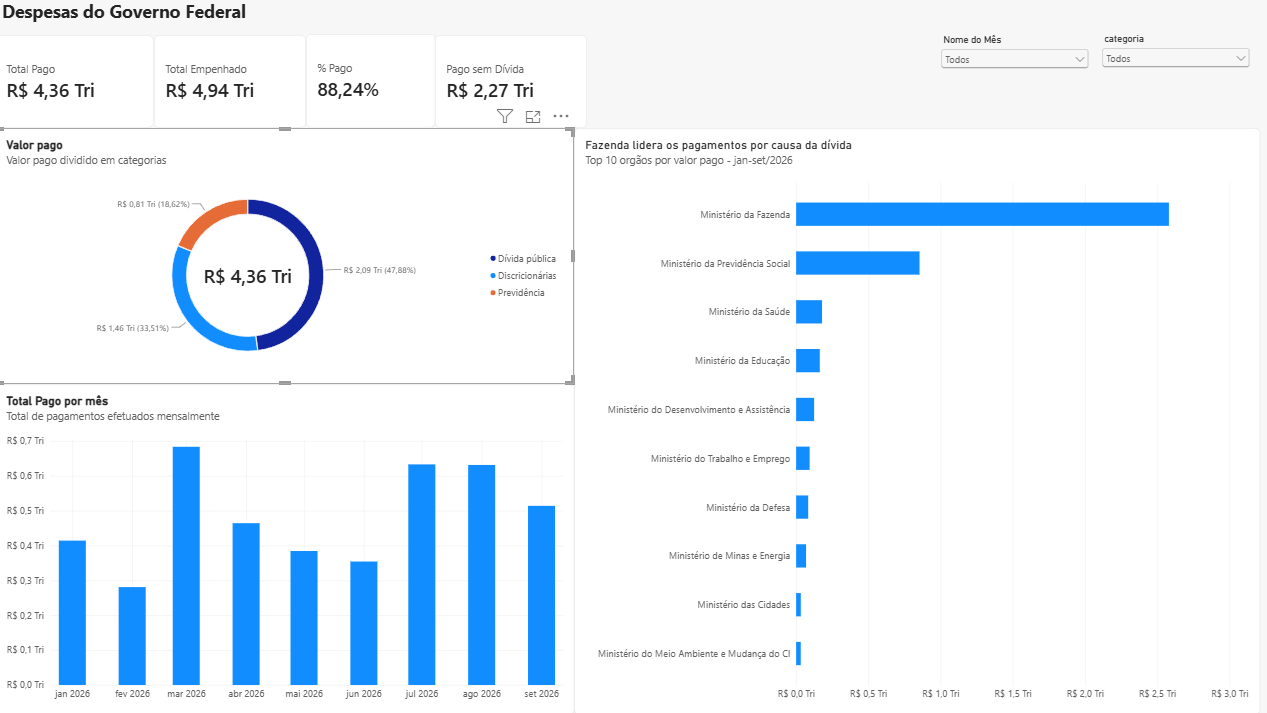

This screenshot's page, from the dashboard's own definition file:
{"tool":"powerbi","page":{"name":"Página 1","canvas":[1920,1080],"ordinal":0},"visuals":[{"type":"slicer","title":"Categoria","fields":{"Values":["dCalendario.Nome do Mês"]},"box":[1422.3,52.8,232.3,70.9],"z":0},{"type":"textbox","box":[10.2,0,458.1,280.1],"z":1000},{"type":"cardVisual","fields":{"Data":["_Medidas.Total Pago"]},"box":[0,54.3,316.7,140.3],"z":2000},{"type":"cardVisual","fields":{"Data":["_Medidas.Total Empenhado"]},"box":[316.7,54.3,313.7,140.3],"z":3000},{"type":"cardVisual","fields":{"Data":["_Medidas.% Pago"]},"box":[630.4,49.8,340.9,141.8],"z":4000},{"type":"cardVisual","fields":{"Data":["_Medidas.Pago sem Dívida"]},"box":[960.8,51.3,419.3,140.3],"z":5000},{"type":"clusteredColumnChart","title":"Total Pago por mês","fields":{"Category":["dCalendario.Data"],"Y":["_Medidas.Total Pago"]},"box":[0,580.7,873.9,499],"z":6000},{"type":"clusteredBarChart","title":"Fazenda lidera os pagamentos por causa da dívida","fields":{"Category":["fDespesas.orgao_superior"],"Y":["_Medidas.Total Pago"]},"box":[873.3,191.5,1034.7,888.4],"z":7000},{"type":"donutChart","title":"Dívida responde a 48% do pagamento","fields":{"Category":["fDespesas.categoria"],"Y":["_Medidas.Total Pago"]},"box":[0,191.5,873.3,389.1],"z":8000},{"type":"slicer","title":"Categoria","fields":{"Values":["fDespesas.categoria"]},"box":[1665.1,51.3,232.3,72.4],"z":9000}]}

Visuals, with their boxes in screenshot pixels (x1, y1, x2, y2), scaled from the page's 1920x1080 canvas onto the 1267x713 screenshot:
"Categoria" slicer: 939 35 1092 82
textbox: 7 0 309 185
cardVisual - _Medidas.Total Pago: 0 36 209 128
cardVisual - _Medidas.Total Empenhado: 209 36 416 128
cardVisual - _Medidas.% Pago: 416 33 641 126
cardVisual - _Medidas.Pago sem Dívida: 634 34 911 126
"Total Pago por mês" clusteredColumnChart: 0 383 577 712
"Fazenda lidera os pagamentos por causa da dívida" clusteredBarChart: 576 126 1259 712
"Dívida responde a 48% do pagamento" donutChart: 0 126 576 383
"Categoria" slicer: 1099 34 1252 82
